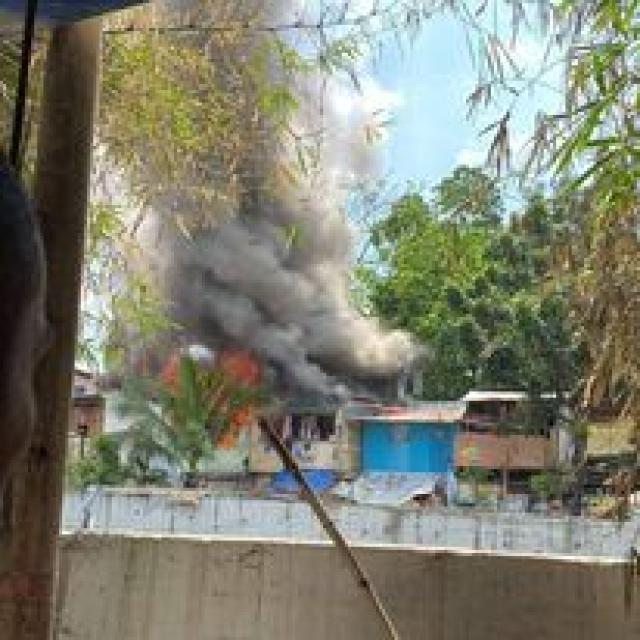Smoke: (183, 225, 414, 385)
